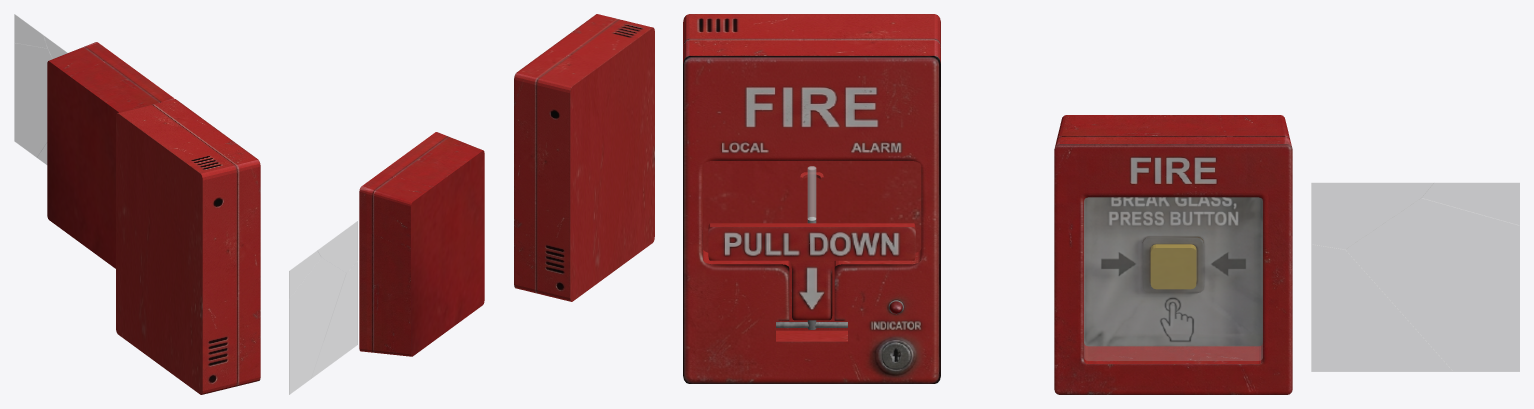
The model's file is FireAlarm.fbx.
The picture shows the model from 3 angles, left to right: view 1: azimuth 30°, elevation 25°; view 2: azimuth 150°, elevation 25°; view 3: azimuth 270°, elevation 25°; orthographic projection. The views are drawn at different scales.
Parts seen in each view (by area): view 1: Base.001, Base, Plane_cell.003, Plane_cell.002, Plane_cell; view 2: Base.001, Base, Plane_cell.003, Plane_cell.001, Plane_cell, Plane_cell.002; view 3: Base.001, Base, Glass, Plane_cell.003, Plane_cell.001, PushHolder, Plane_cell, Plane_cell.002, Button.
Part boxes in pixels (x1,y1,x2,y2): Base.001: (116,99,260,394); Base: (47,42,174,268); Plane_cell.003: (14,43,52,157); Plane_cell.002: (14,14,47,48); Plane_cell: (43,35,67,58); Base.001: (514,14,654,301); Base: (359,132,484,356); Plane_cell.003: (289,257,346,394); Plane_cell.001: (311,261,357,378); Plane_cell: (317,221,357,272); Plane_cell.002: (289,250,321,298); Base.001: (683,14,940,383); Base: (1054,115,1292,394); Glass: (1084,197,1262,360); Plane_cell.003: (1345,198,1519,371); Plane_cell.001: (1311,244,1452,371); PushHolder: (708,219,915,329); Plane_cell: (1311,182,1433,249); Plane_cell.002: (1422,182,1519,225); Button: (1150,244,1196,289).
Bounding box in the file's own units: 231 × 497 × 1149.
5 materials, 3 textured.
